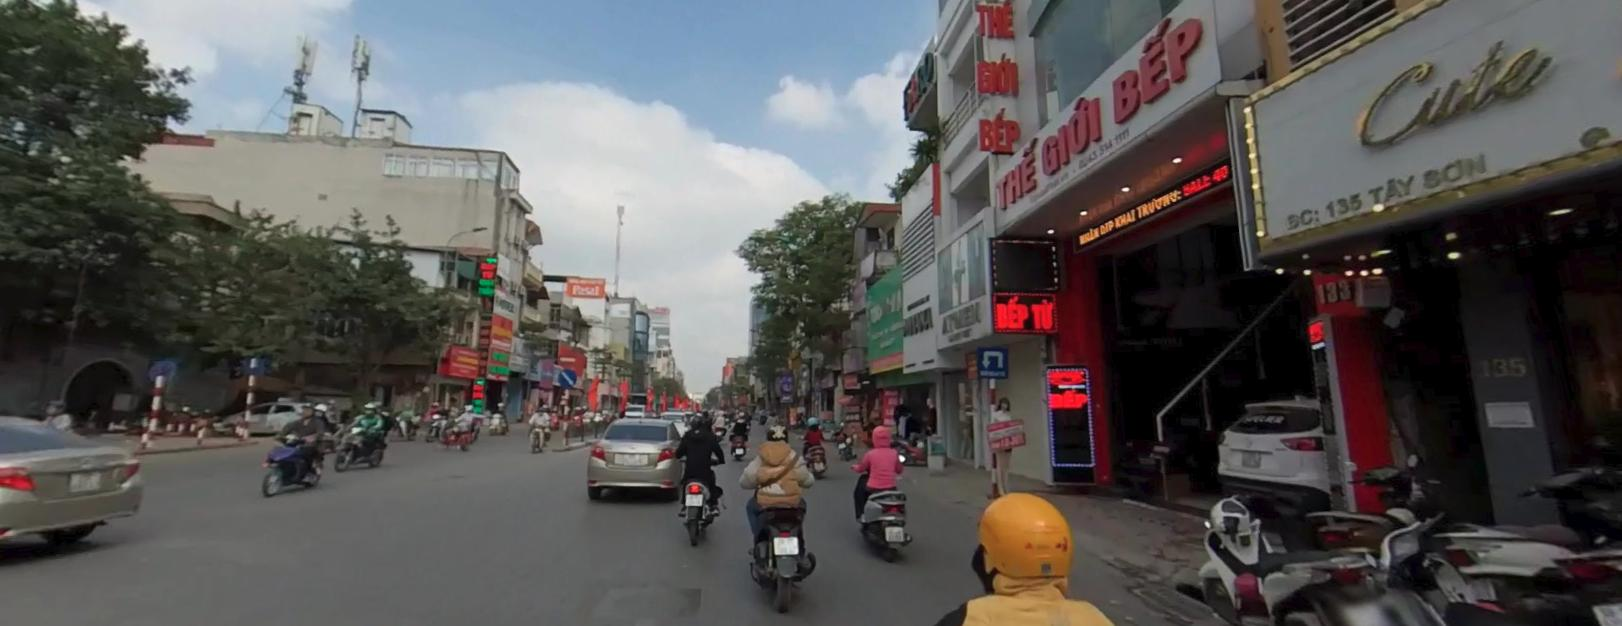Cam nguoc chieu: (558, 348, 576, 367)
Hieu lenh: (558, 368, 576, 386)
